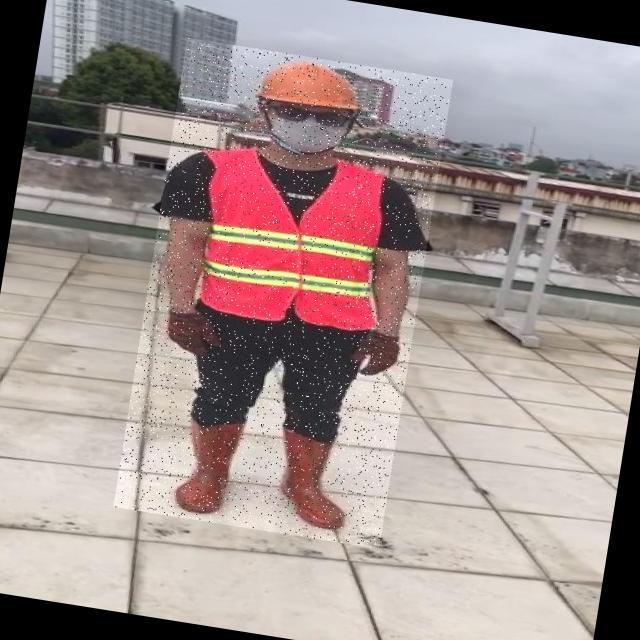Gloves: (167, 310, 230, 361), (351, 327, 406, 380)
Helmet: (256, 55, 376, 119)
Human: (114, 38, 455, 549)
Safety Boot: (263, 422, 360, 534), (172, 413, 248, 518)
Safety Vest: (180, 138, 394, 335)
